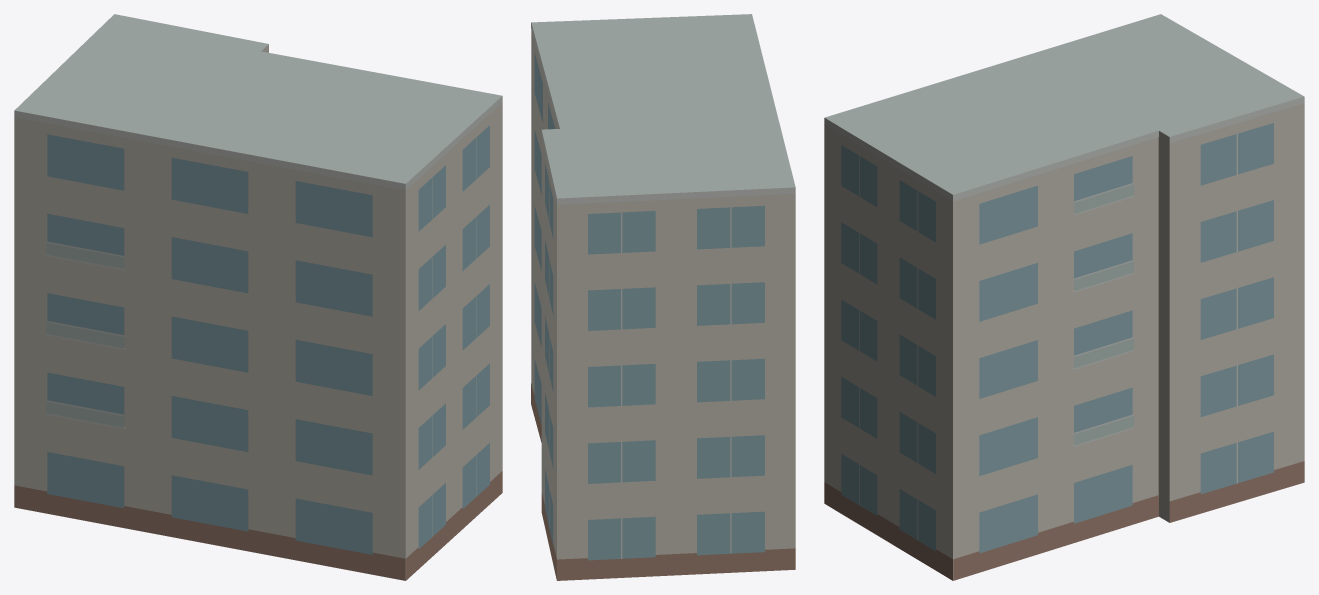
The model's file is survey-upis-33025428.glb.
3 renders of one model, left to right at view 1: azimuth 30°, elevation 25°; view 2: azimuth 150°, elevation 25°; view 3: azimuth 270°, elevation 25°, orthographic. The views are drawn at different scales.
Visible parts, largest first — view 1: survey-upis-33025428.tmp; view 2: survey-upis-33025428.tmp; view 3: survey-upis-33025428.tmp.
Part boxes in pixels (x1,y1,x2,y2): survey-upis-33025428.tmp: [14, 14, 502, 580]; survey-upis-33025428.tmp: [531, 14, 795, 580]; survey-upis-33025428.tmp: [824, 14, 1304, 580].
Bounding box in the file's own units: 14.69 × 14.6 × 16.47.
